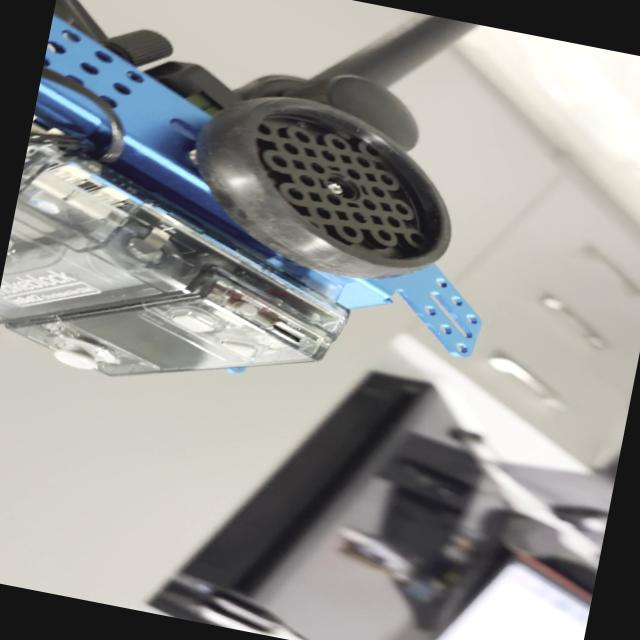mbot-detection: (0, 6, 543, 459)
